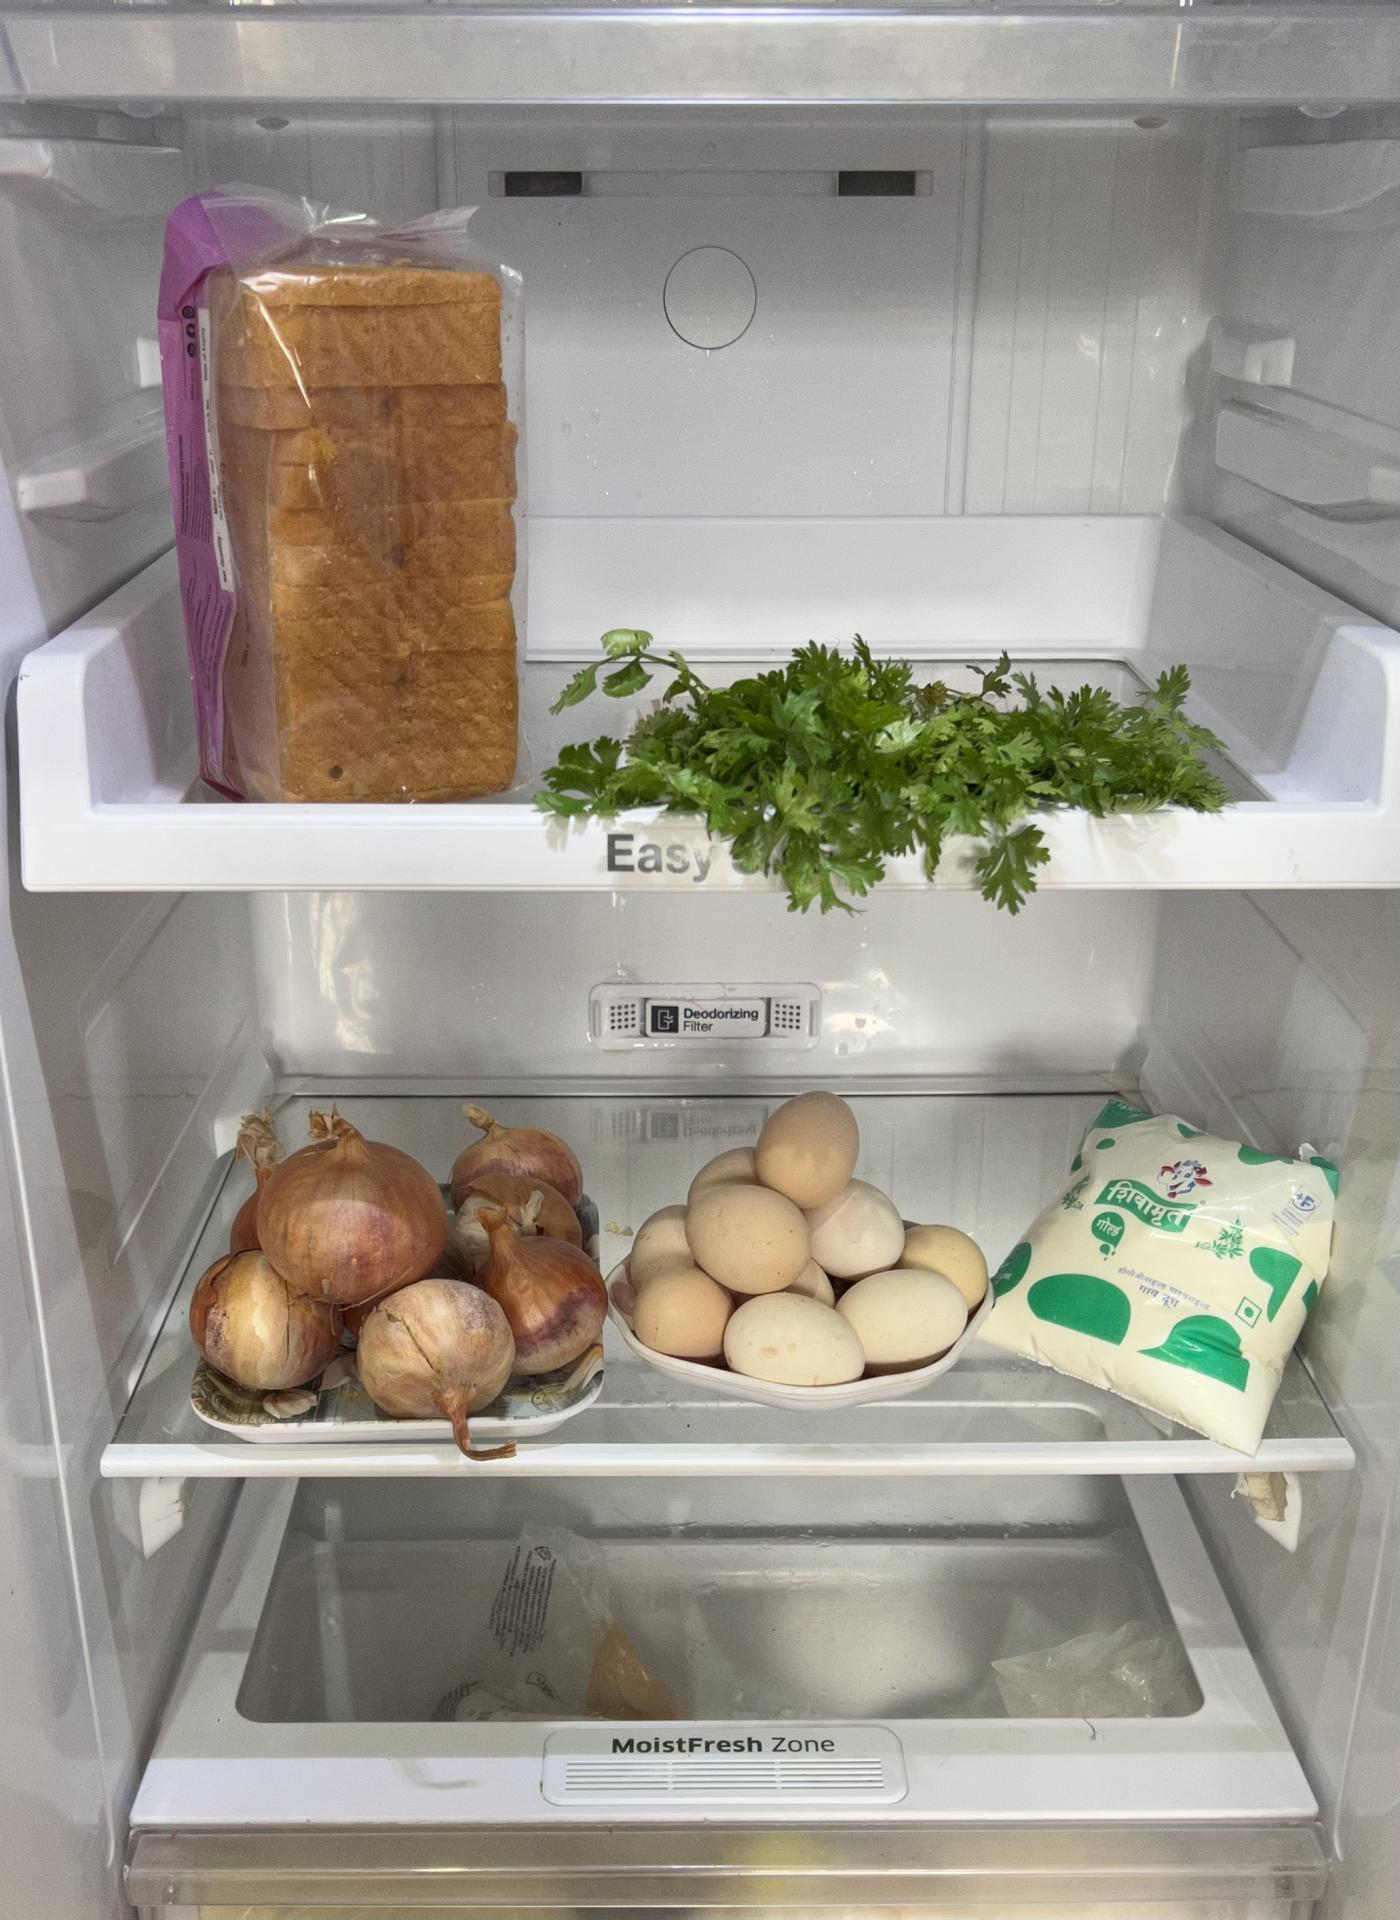bread: (122, 164, 547, 795)
coriander: (576, 635, 1246, 842)
egg: (622, 1082, 977, 1388)
milk: (994, 1093, 1334, 1439)
onion: (188, 1085, 599, 1428)
